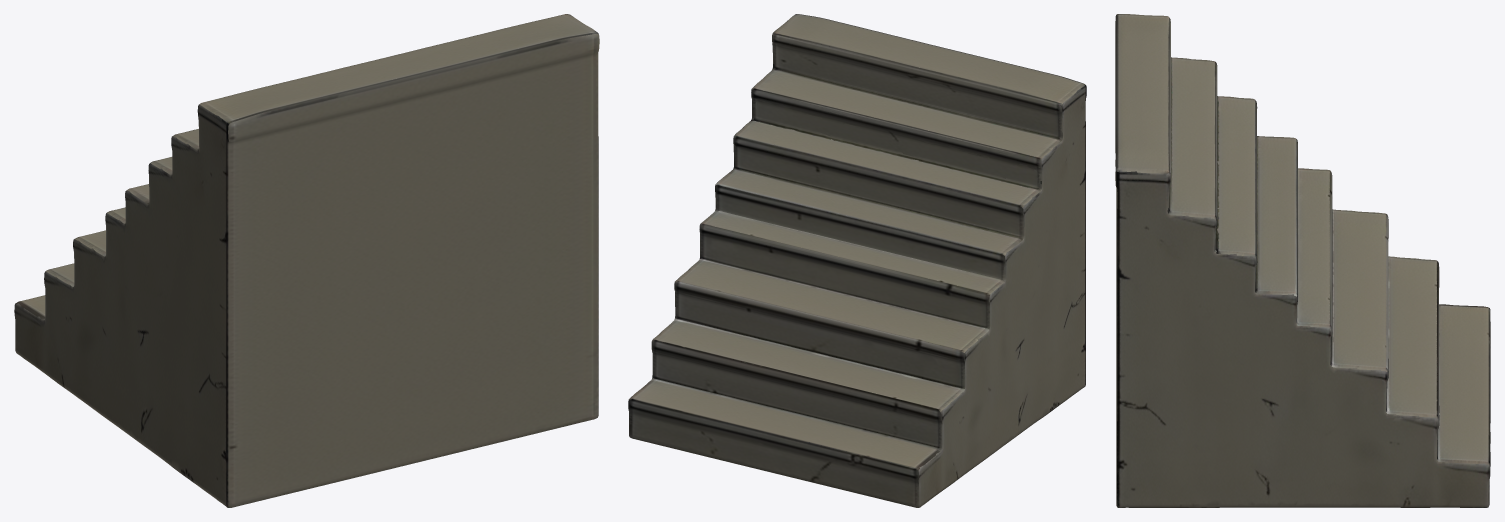
The model's file is stairs-straight.glb.
The picture shows the model from 3 angles, left to right: view 1: azimuth 30°, elevation 25°; view 2: azimuth 150°, elevation 25°; view 3: azimuth 270°, elevation 25°; orthographic projection. The views are drawn at different scales.
Parts seen in each view (by area): view 1: tmpf1ykri1n.ply; view 2: tmpf1ykri1n.ply; view 3: tmpf1ykri1n.ply.
Part boxes in pixels (x1,y1,x2,y2): tmpf1ykri1n.ply: [14, 14, 599, 507]; tmpf1ykri1n.ply: [628, 14, 1086, 507]; tmpf1ykri1n.ply: [1115, 14, 1490, 507].
Size of the model in its own units: 1 by 1 by 1.
Materials: 1 (1 with a texture image).
